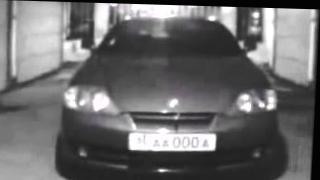License_Plate: (123, 128, 222, 157)
